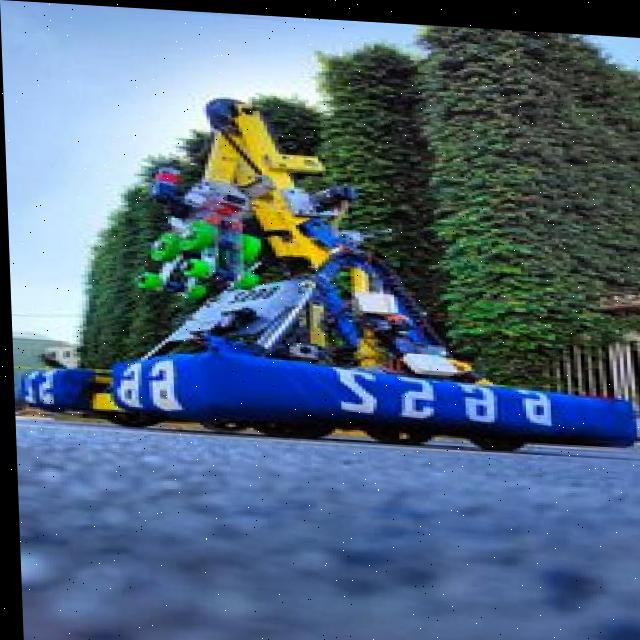robot: (2, 77, 640, 473)
